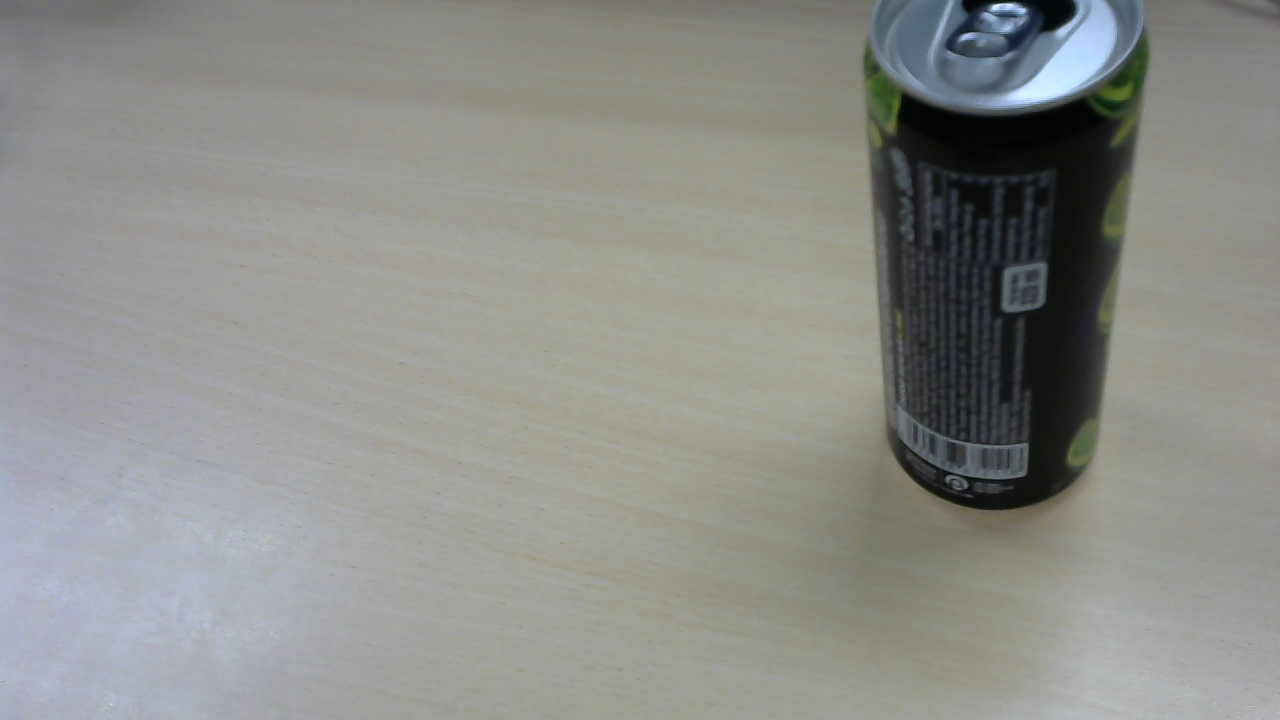Pepsi: (869, 7, 1153, 517)
